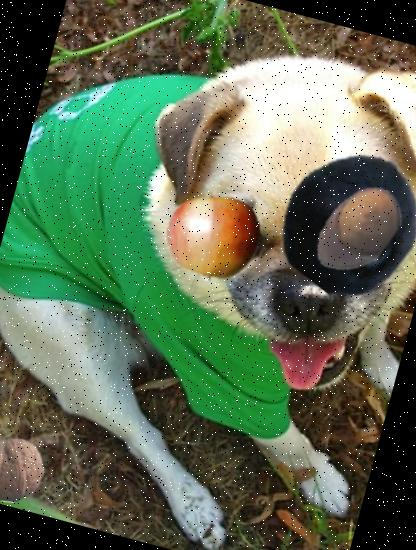Apple: (156, 180, 272, 295)
Blueberry: (263, 133, 416, 311)
Hazelnut: (295, 167, 416, 291)
Walnut: (0, 429, 51, 510)
